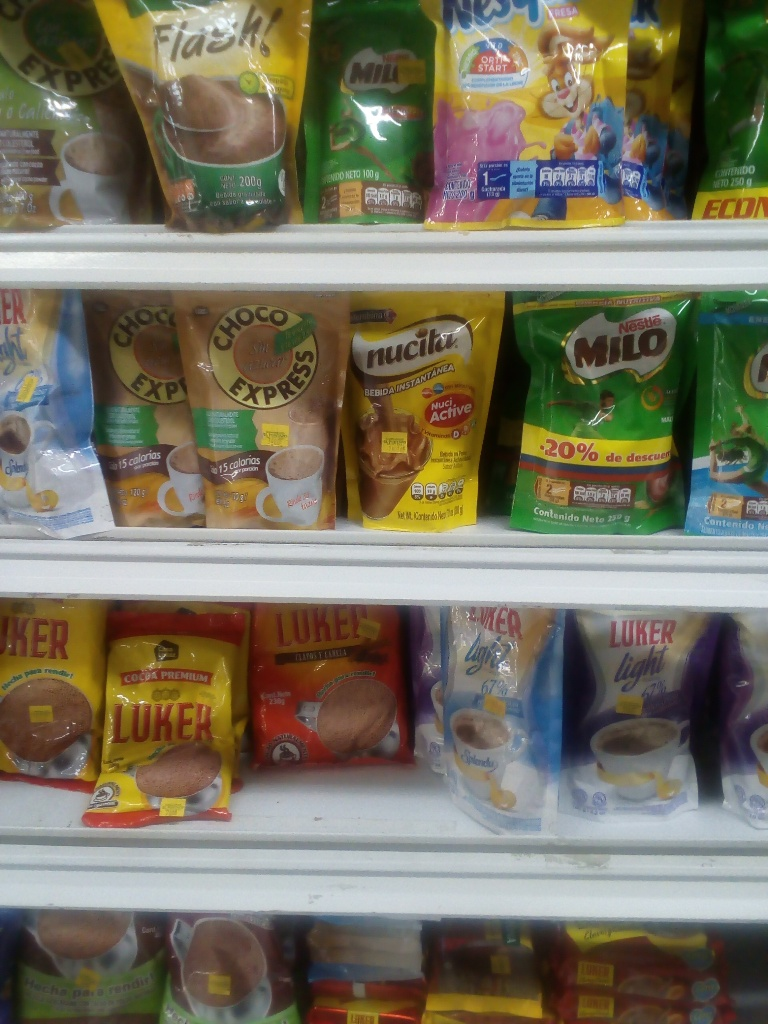COL0170203DYP10000: (306, 0, 432, 227)
COL0170203DYP25000: (506, 286, 690, 534)
COL0170305DYP20000: (425, 0, 631, 233)
